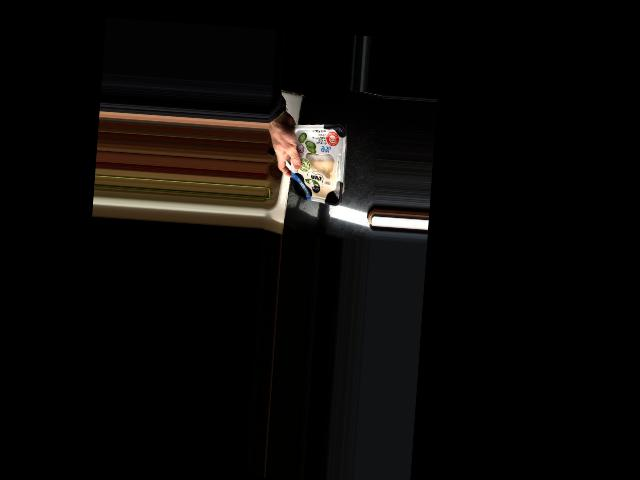cheese: (282, 120, 347, 204)
